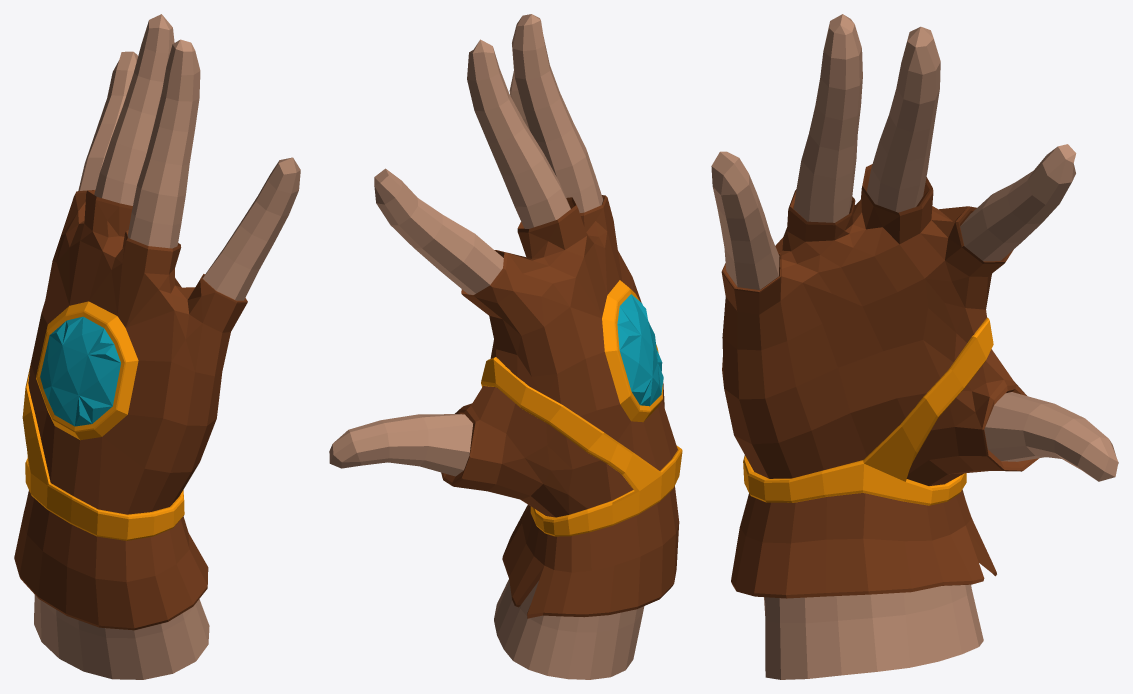
File: Hand.fbx
The picture shows the model from 3 angles, left to right: view 1: azimuth 30°, elevation 25°; view 2: azimuth 150°, elevation 25°; view 3: azimuth 270°, elevation 25°; orthographic projection. The views are drawn at different scales.
Parts seen in each view (by area): view 1: USub_Arm.001, USub_Arm.002; view 2: USub_Arm.001, USub_Arm.002; view 3: USub_Arm.001, USub_Arm.002.
Part boxes in pixels (<box>): USub_Arm.001: <box>14,14,300,679</box>; USub_Arm.002: <box>22,365,184,540</box>; USub_Arm.001: <box>329,14,679,679</box>; USub_Arm.002: <box>481,357,682,536</box>; USub_Arm.001: <box>711,14,1118,679</box>; USub_Arm.002: <box>743,317,993,505</box>.
Bounding box in the file's own units: 68.65 × 184 × 98.23.
